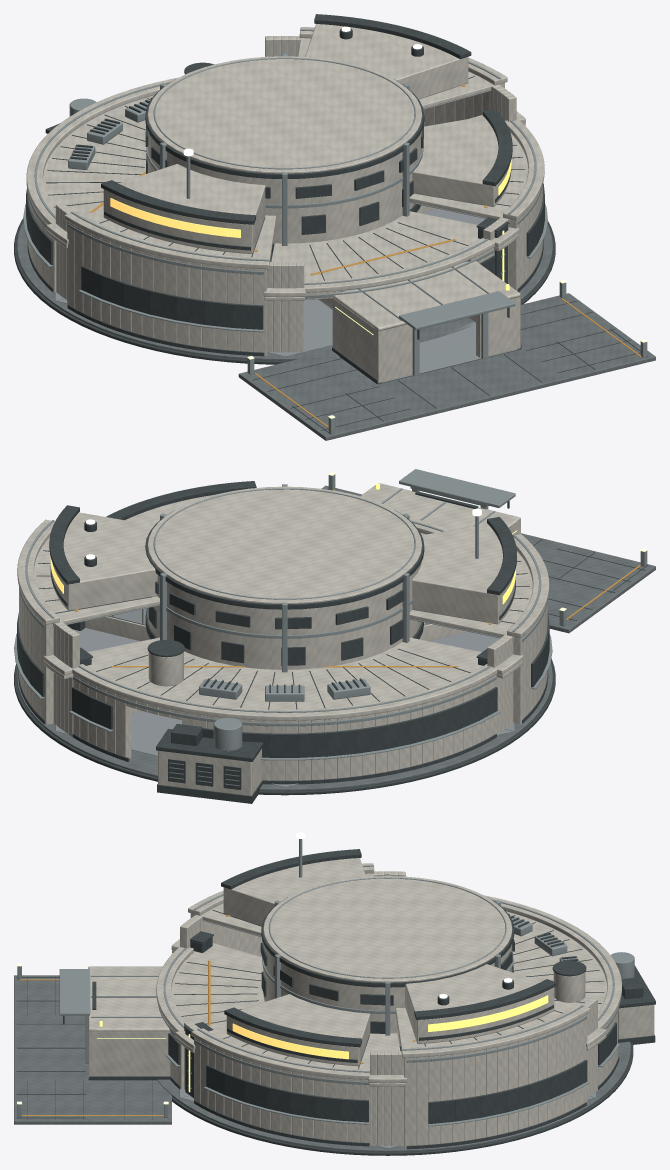
File: hq-shell.f0e1eeb73c82.glb
3 views of the same model, one above another, from view 1: azimuth 30°, elevation 25°; view 2: azimuth 150°, elevation 25°; view 3: azimuth 270°, elevation 25° (orthographic). The views are drawn at different scales.
Visible parts, largest first — view 1: MF_Roof__structure_ivory_ceramic, MF_Court__court_weathered_basalt, MF_BaseFixed__structure_ivory_ceramic, MF_ShellCutaway_FrontFlats__structure_ivory_ceramic, MF_Roof__structure_graphite_joints, MF_BaseFixed__structure_graphite_joints, MF_Roof__brushed_titanium, MF_BaseFixed__court_weathered_basalt, MF_BaseFixed__brushed_titanium, MF_ShellCutaway_FrontFlats__brushed_titanium, MF_Interior_dispatch__room_inlay_dispatch, MF_Court__structure_graphite_joints (+3 smaller); view 2: MF_Roof__structure_ivory_ceramic, MF_BaseFixed__structure_ivory_ceramic, MF_BaseFixed__structure_graphite_joints, MF_Roof__structure_graphite_joints, MF_Roof__brushed_titanium, MF_Court__court_weathered_basalt, MF_BaseFixed__brushed_titanium, MF_ShellCutaway_FrontFlats__structure_ivory_ceramic, MF_BaseFixed__court_weathered_basalt, MF_Interior_implementation__room_inlay_implementation, MF_Interior_review__room_inlay_review, MF_Interior_planning__room_inlay_planning (+2 smaller); view 3: MF_Roof__structure_ivory_ceramic, MF_BaseFixed__structure_ivory_ceramic, MF_ShellCutaway_FrontFlats__structure_ivory_ceramic, MF_Court__court_weathered_basalt, MF_Roof__structure_graphite_joints, MF_BaseFixed__structure_graphite_joints, MF_Roof__brushed_titanium, MF_ShellCutaway_FrontFlats__structure_graphite_joints, MF_BaseFixed__court_weathered_basalt, MF_BaseFixed__brushed_titanium, MF_ShellCutaway_FrontFlats__brushed_titanium, MF_Roof__practical_warm_window_glass (+1 smaller).
Part boxes in pixels (x1,y1,x2,y2): MF_Roof__structure_ivory_ceramic: (43, 24, 528, 330); MF_Court__court_weathered_basalt: (238, 293, 655, 440); MF_BaseFixed__structure_ivory_ceramic: (26, 27, 507, 355); MF_ShellCutaway_FrontFlats__structure_ivory_ceramic: (55, 36, 544, 382); MF_Roof__structure_graphite_joints: (46, 14, 525, 339); MF_BaseFixed__structure_graphite_joints: (14, 123, 555, 384); MF_Roof__brushed_titanium: (68, 53, 515, 330); MF_BaseFixed__court_weathered_basalt: (17, 221, 552, 360); MF_BaseFixed__brushed_titanium: (23, 29, 505, 332); MF_ShellCutaway_FrontFlats__brushed_titanium: (304, 120, 547, 375); MF_Interior_dispatch__room_inlay_dispatch: (382, 321, 516, 382); MF_Court__structure_graphite_joints: (252, 301, 648, 434); MF_Roof__structure_ivory_ceramic: (33, 483, 532, 709); MF_BaseFixed__structure_ivory_ceramic: (17, 519, 549, 795); MF_BaseFixed__structure_graphite_joints: (14, 613, 555, 803); MF_Roof__structure_graphite_joints: (37, 481, 529, 745); MF_Roof__brushed_titanium: (52, 469, 515, 751); MF_Court__court_weathered_basalt: (321, 485, 655, 633); MF_BaseFixed__brushed_titanium: (14, 520, 552, 786); MF_ShellCutaway_FrontFlats__structure_ivory_ceramic: (53, 517, 520, 736); MF_BaseFixed__court_weathered_basalt: (17, 663, 552, 790); MF_Interior_implementation__room_inlay_implementation: (58, 711, 510, 787); MF_Interior_review__room_inlay_review: (56, 628, 139, 730); MF_Interior_planning__room_inlay_planning: (429, 631, 513, 730); MF_Roof__structure_ivory_ceramic: (88, 858, 606, 1086); MF_BaseFixed__structure_ivory_ceramic: (188, 863, 654, 1148); MF_ShellCutaway_FrontFlats__structure_ivory_ceramic: (88, 871, 597, 1146); MF_Court__court_weathered_basalt: (14, 975, 171, 1124); MF_Roof__structure_graphite_joints: (63, 849, 643, 1069); MF_BaseFixed__structure_graphite_joints: (88, 931, 655, 1155); MF_Roof__brushed_titanium: (59, 839, 634, 1058); MF_ShellCutaway_FrontFlats__structure_graphite_joints: (89, 981, 369, 1146); MF_BaseFixed__court_weathered_basalt: (157, 1041, 630, 1151); MF_BaseFixed__brushed_titanium: (187, 865, 620, 1126); MF_ShellCutaway_FrontFlats__brushed_titanium: (85, 947, 369, 1124); MF_Roof__practical_warm_window_glass: (232, 995, 548, 1059).
Bounding box in the file's own units: 35.5 × 12.31 × 46.37.
19 materials, 3 textured.
